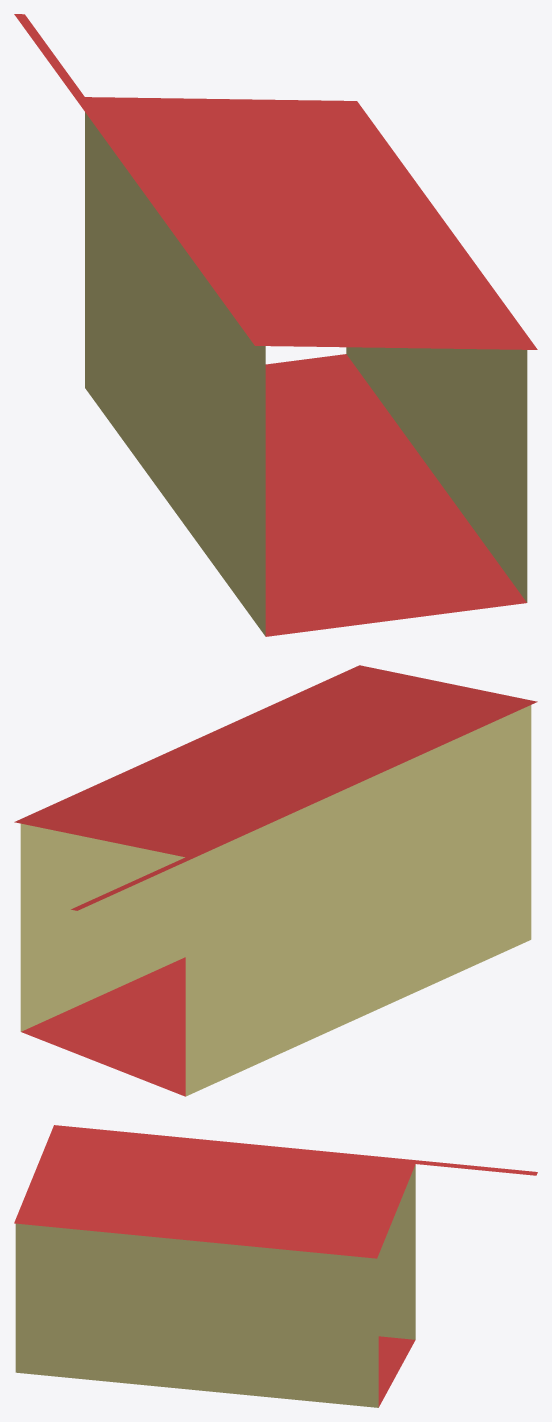
The picture shows the model from 3 angles, top to bottom: view 1: azimuth 30°, elevation 25°; view 2: azimuth 150°, elevation 25°; view 3: azimuth 270°, elevation 25°; orthographic projection. The views are drawn at different scales.
Bounding box in the file's own units: 9.42 × 19.15 × 7.13.
